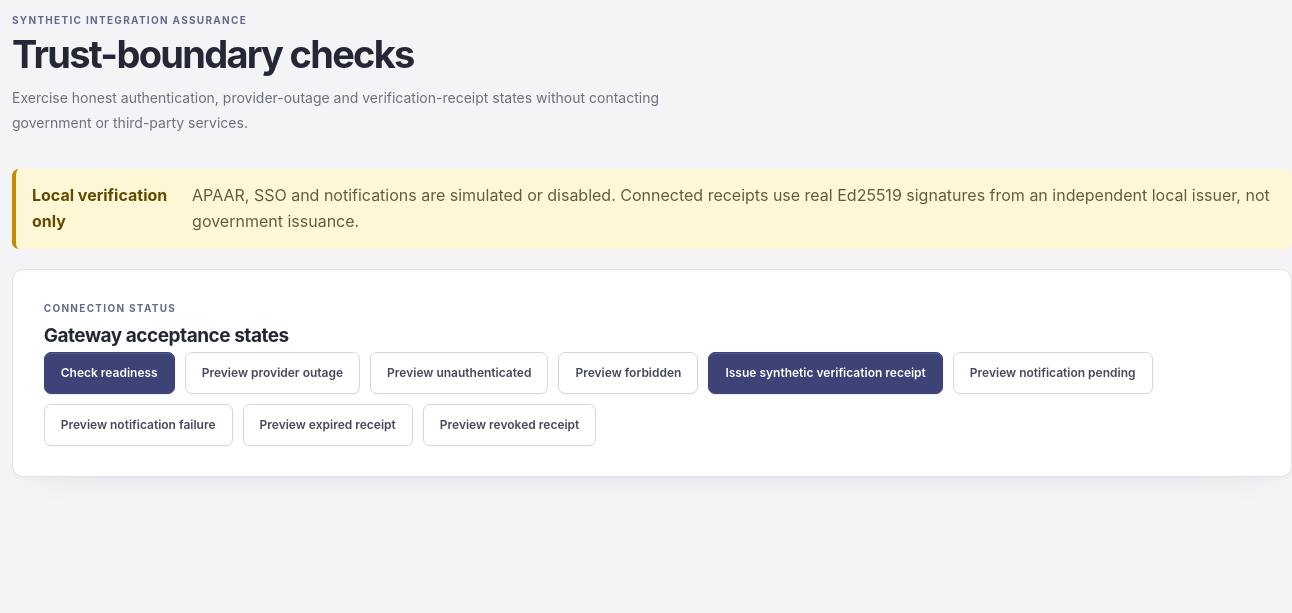
Test: IntegrationWorkspace › renders the Preview forbidden access state
This screenshot has width=1292, height=613.
Click the button "Preview forbidden".
click(628, 373)  # box x1=558 y1=352 x2=698 y2=394
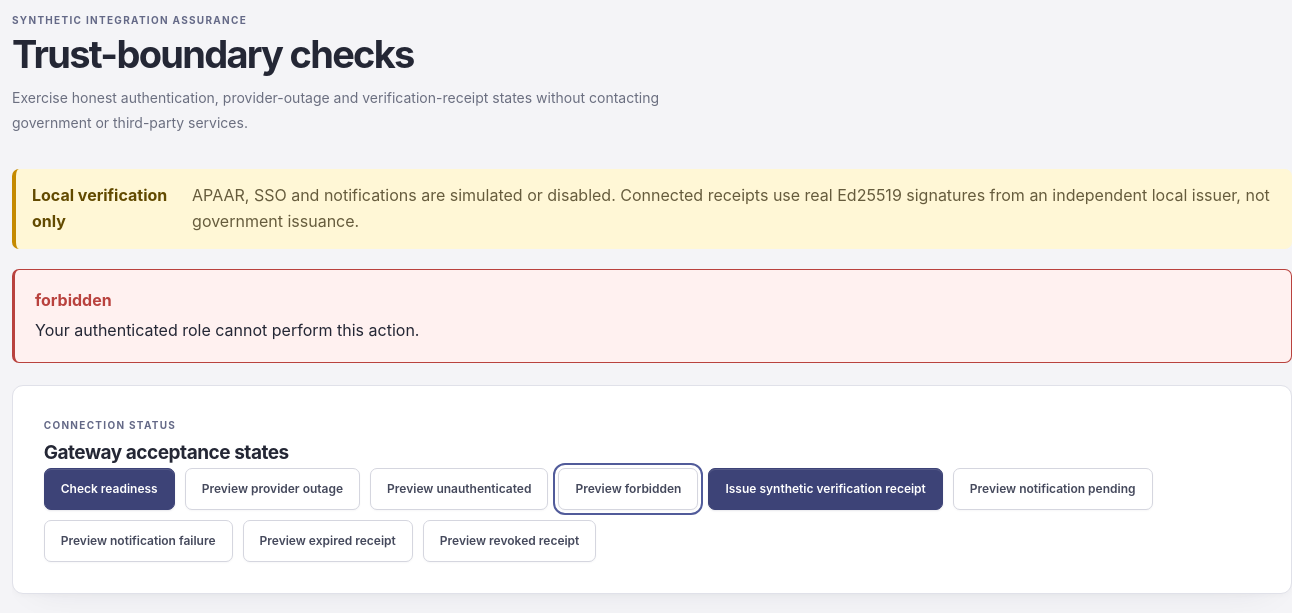
Expected: the message shows "forbidden", x1=35 y1=290 x2=112 y2=310
Expected: the message shows "cannot perform", x1=35 y1=320 x2=419 y2=340
